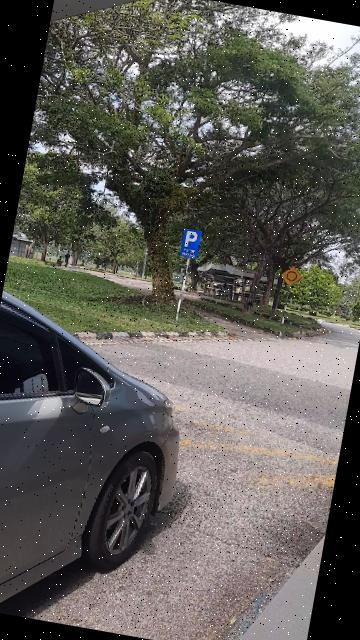car: (1, 286, 219, 640)
